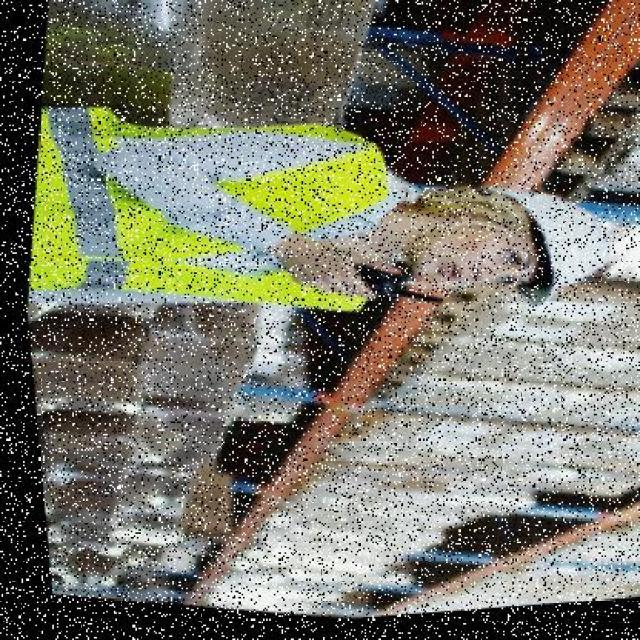helmet: (463, 182, 621, 329)
vest: (9, 78, 422, 354)
